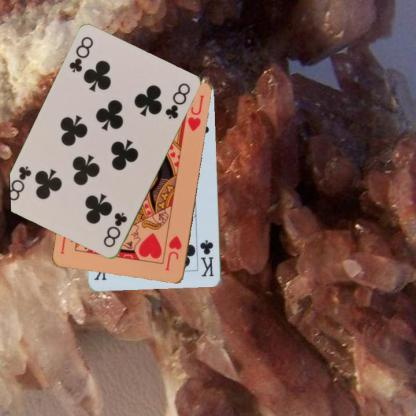8c: (100, 209, 129, 250), (66, 35, 95, 74)
Jh: (162, 232, 184, 272)
Kc: (198, 237, 216, 278)
